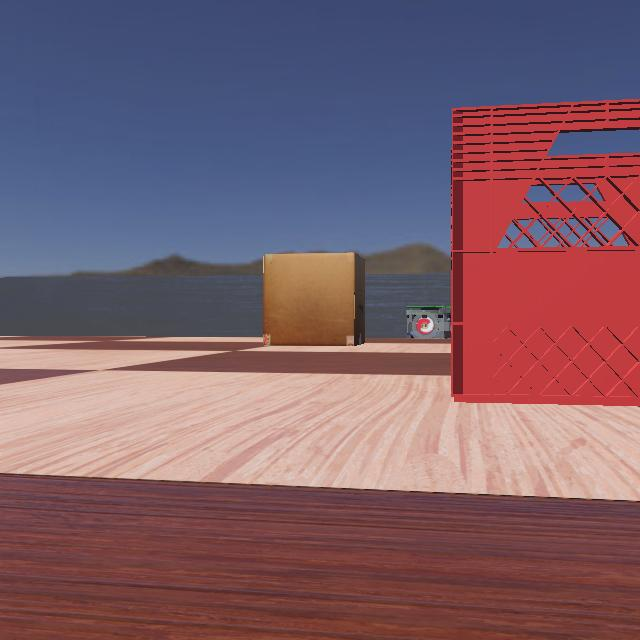cardboard-box: (262, 251, 371, 345), (262, 251, 371, 345)
plastic-crate: (412, 73, 640, 415)
